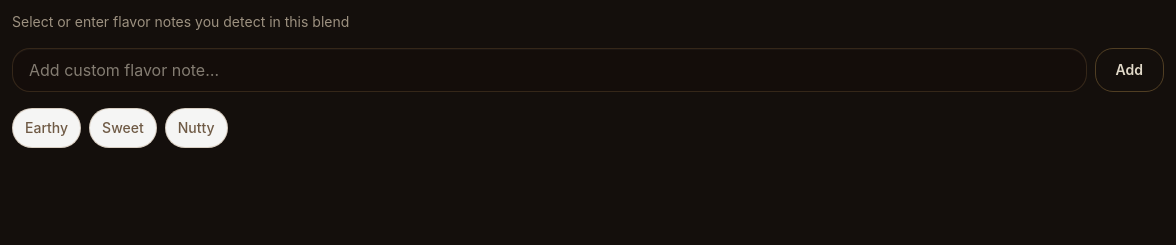
it: FlavorProfileField › adds a custom flavor when Enter is pressed
In the field with placeholder "Add custom flavor note…": (549, 70) [12,48,1086,92], type "  Molasses "
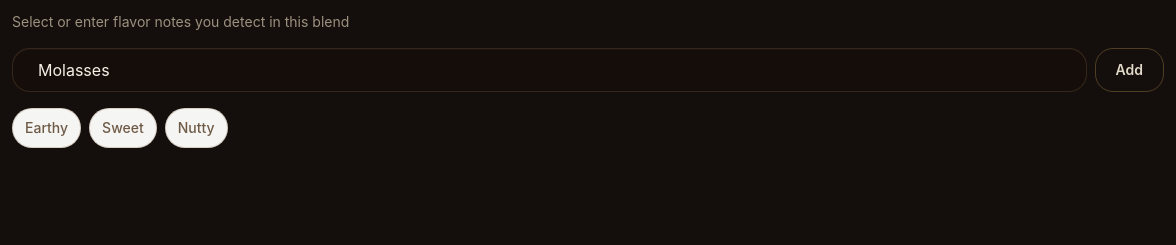
Press Enter in the field with placeholder "Add custom flavor note…", box [12,48,1086,92]
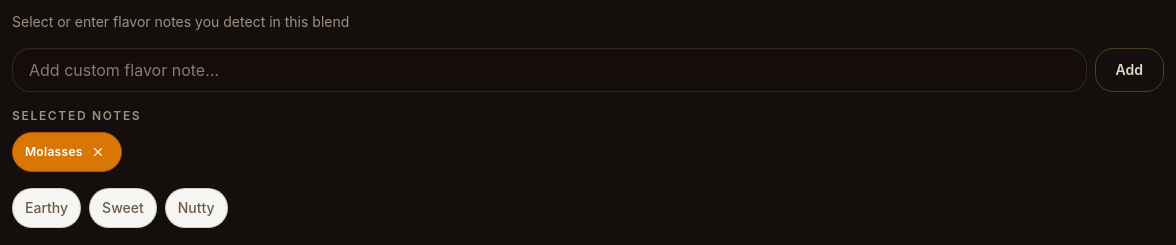
Expected: the text "Molasses" is shown, [25,146,83,158]
